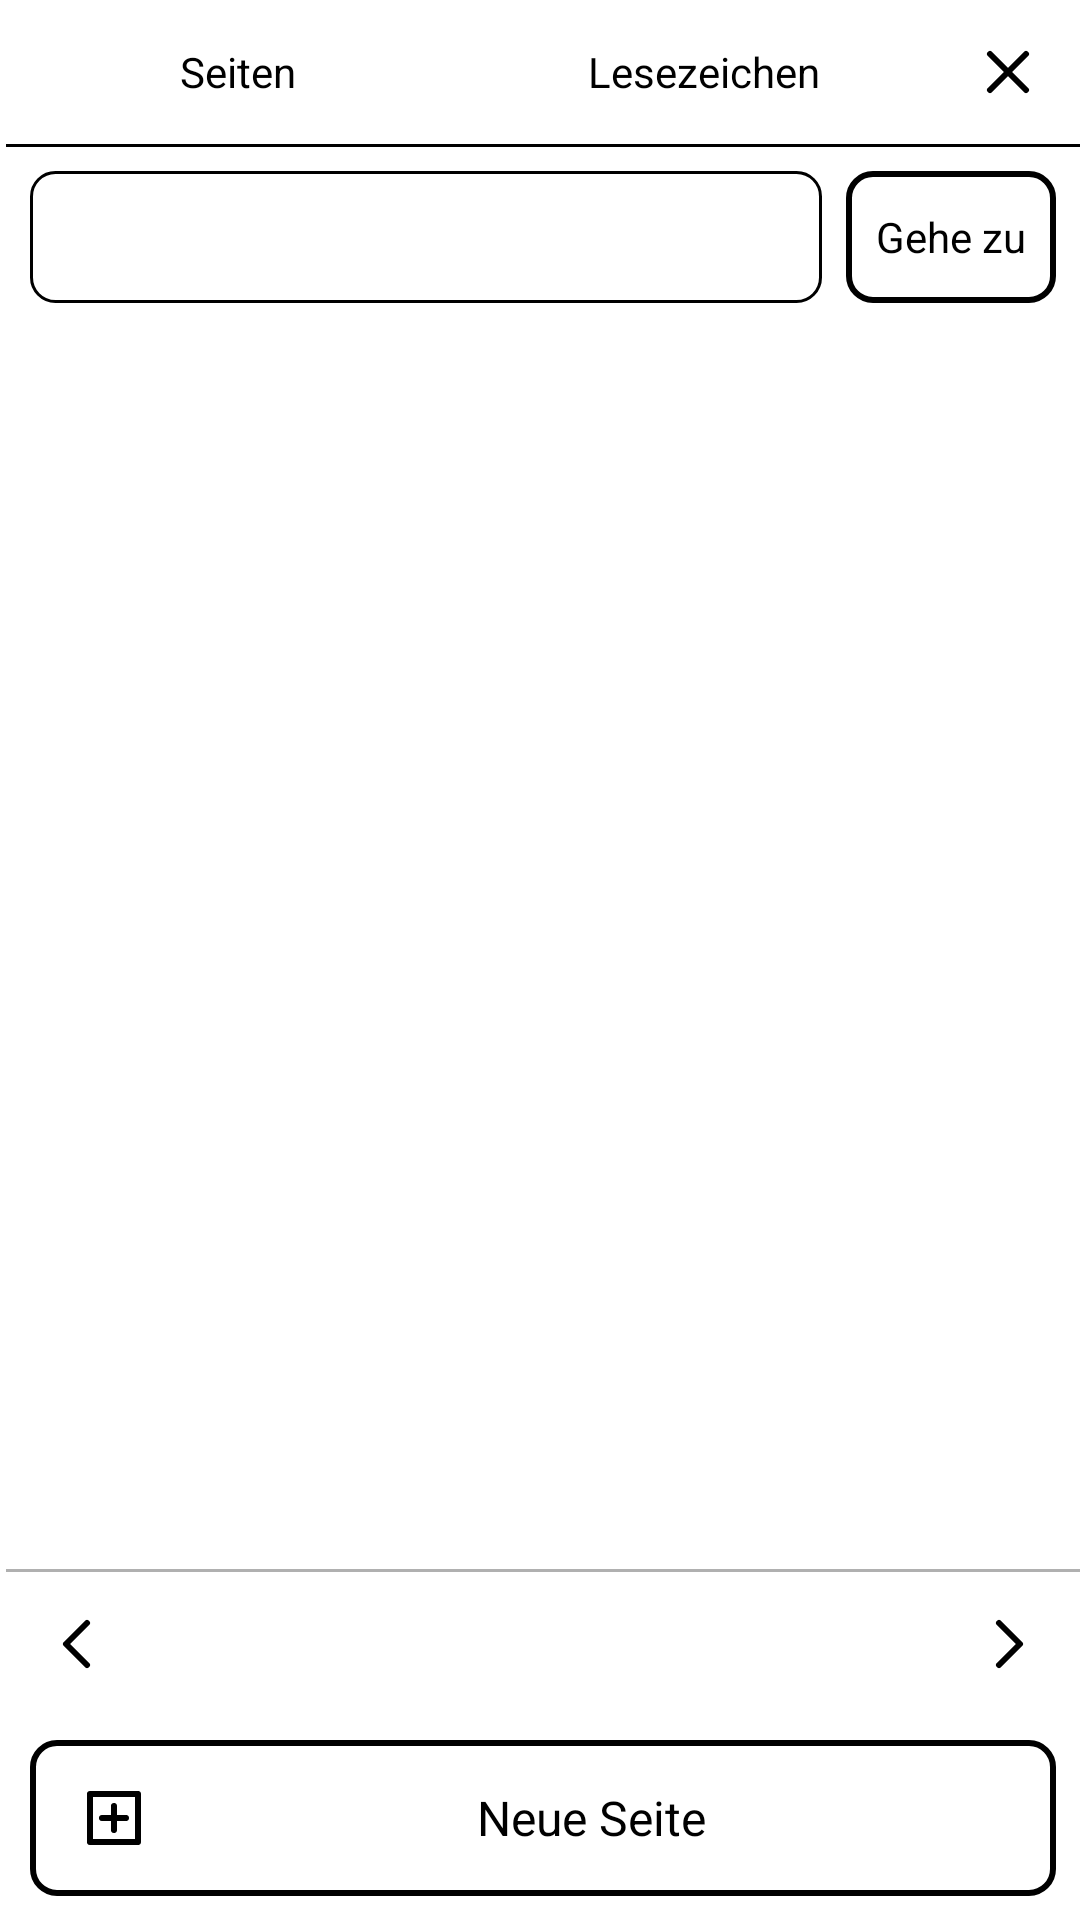

Where icons sit on this 1080 × 1920 app screen, as (x1, y1, x2, y2):
Seitenleiste schließen: (987, 51, 1029, 93)
Vorherige Vorschauen: (63, 1620, 90, 1668)
Weitere Vorschauen: (996, 1620, 1023, 1668)
